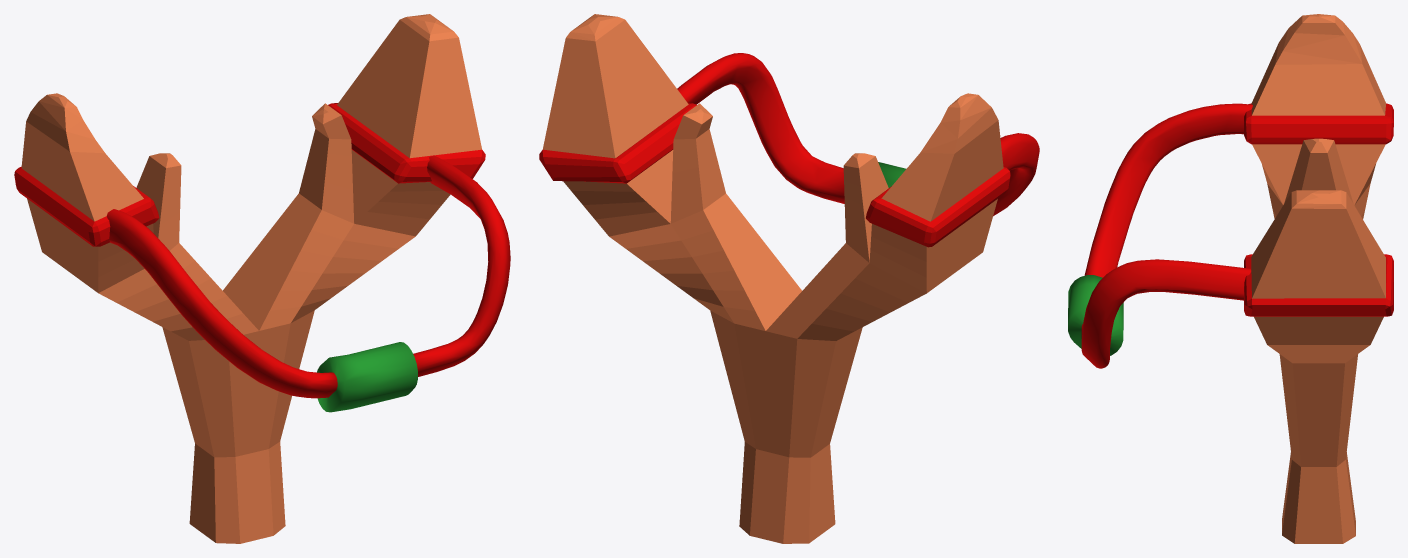
File: slingshot.fbx
The picture shows the model from 3 angles, left to right: view 1: azimuth 30°, elevation 25°; view 2: azimuth 150°, elevation 25°; view 3: azimuth 270°, elevation 25°; orthographic projection. The views are drawn at different scales.
Visible parts, largest first — view 1: slingshot.001; view 2: slingshot.001; view 3: slingshot.001.
Part boxes in pixels (left/top/right/bottom): slingshot.001: left=14, top=14, right=510, bottom=543; slingshot.001: left=539, top=14, right=1039, bottom=543; slingshot.001: left=1068, top=14, right=1393, bottom=543.
Size of the model in its own units: 55.65 by 62.49 by 42.53.
Materials: 1 (1 with a texture image).
